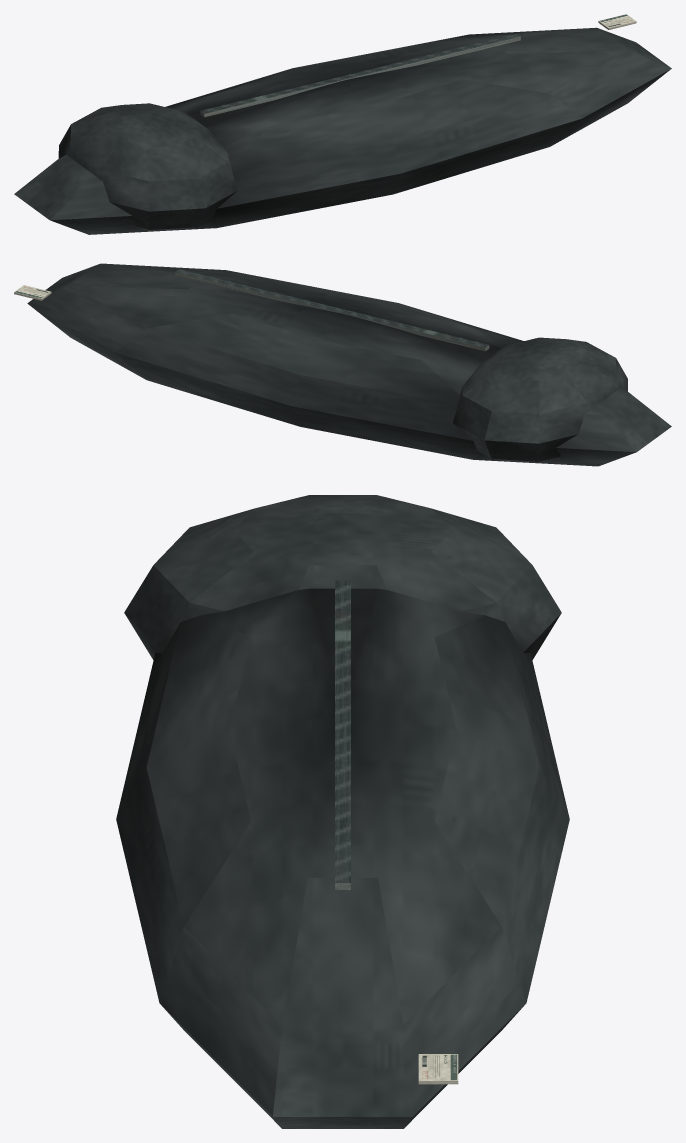
Rendered from body_bag.glb.
3 renders of one model, top to bottom at view 1: azimuth 30°, elevation 25°; view 2: azimuth 150°, elevation 25°; view 3: azimuth 270°, elevation 25°, orthographic. The views are drawn at different scales.
Visible parts, largest first — view 1: BodyBag; view 2: BodyBag; view 3: BodyBag.
Boxes of the visible parts, x1,y1,x2,y2 form: BodyBag: [14, 14, 671, 234]; BodyBag: [14, 263, 671, 466]; BodyBag: [116, 495, 569, 1128].
Size of the model in its own units: 1.77 by 0.306 by 0.57.
Materials: 1 (1 with a texture image).
